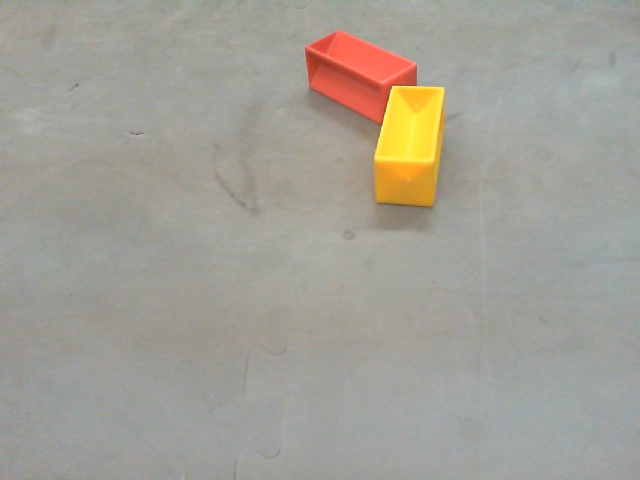RedSample: (302, 28, 420, 120)
YellowSample: (373, 84, 446, 210)
